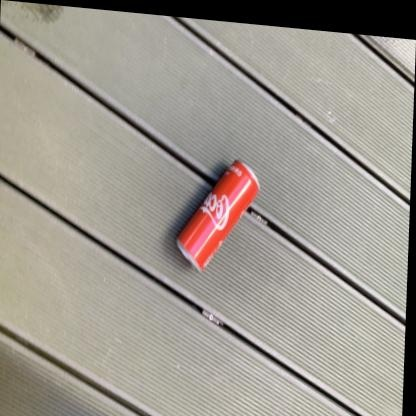trash: (177, 160, 258, 270)
